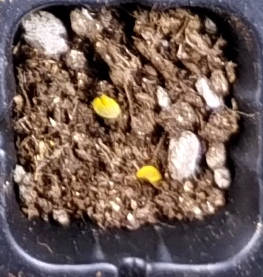chilli seed: (91, 94, 122, 119), (135, 164, 162, 182)
